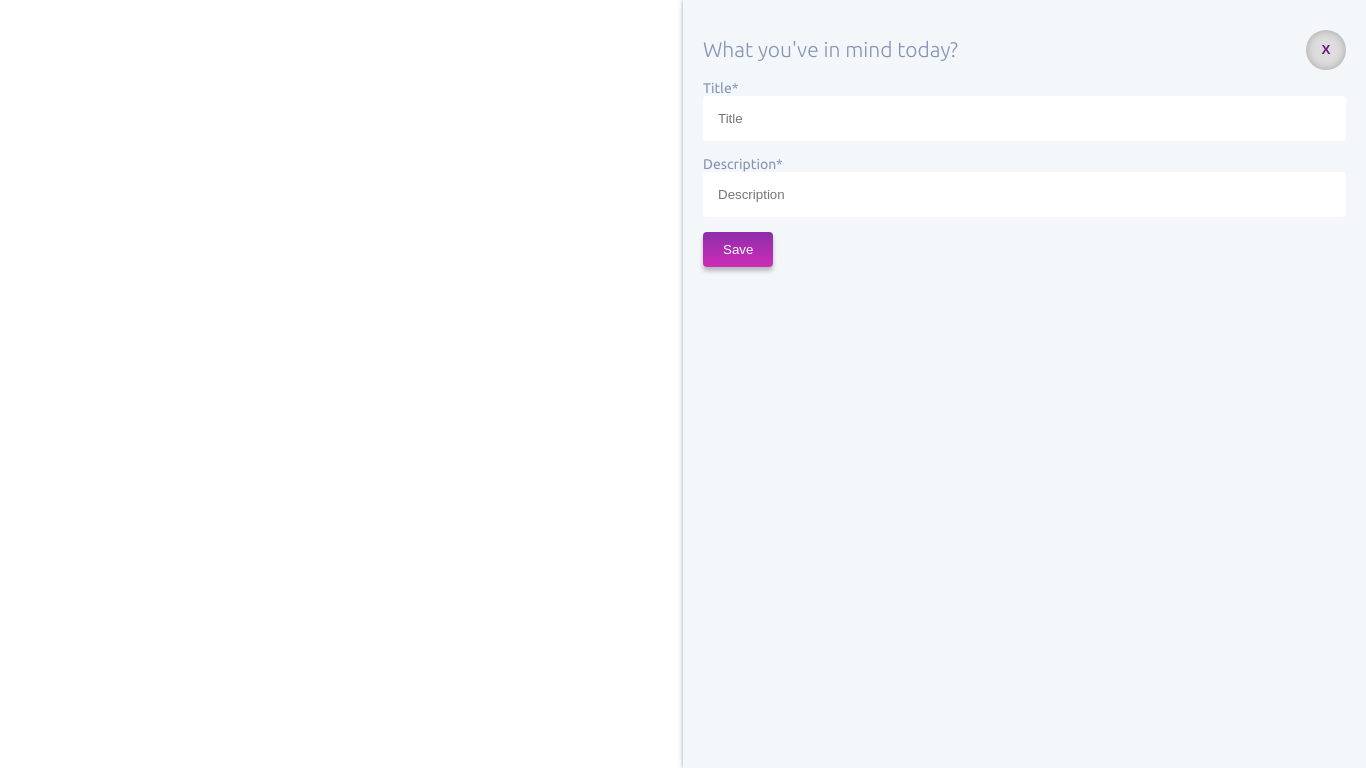
Test case: Test add compoenents › should not be able to submit without all required fields
The width and height of the screenshot is (1366, 768).
Click the button "Save" at (738, 249), box [703, 232, 773, 267]
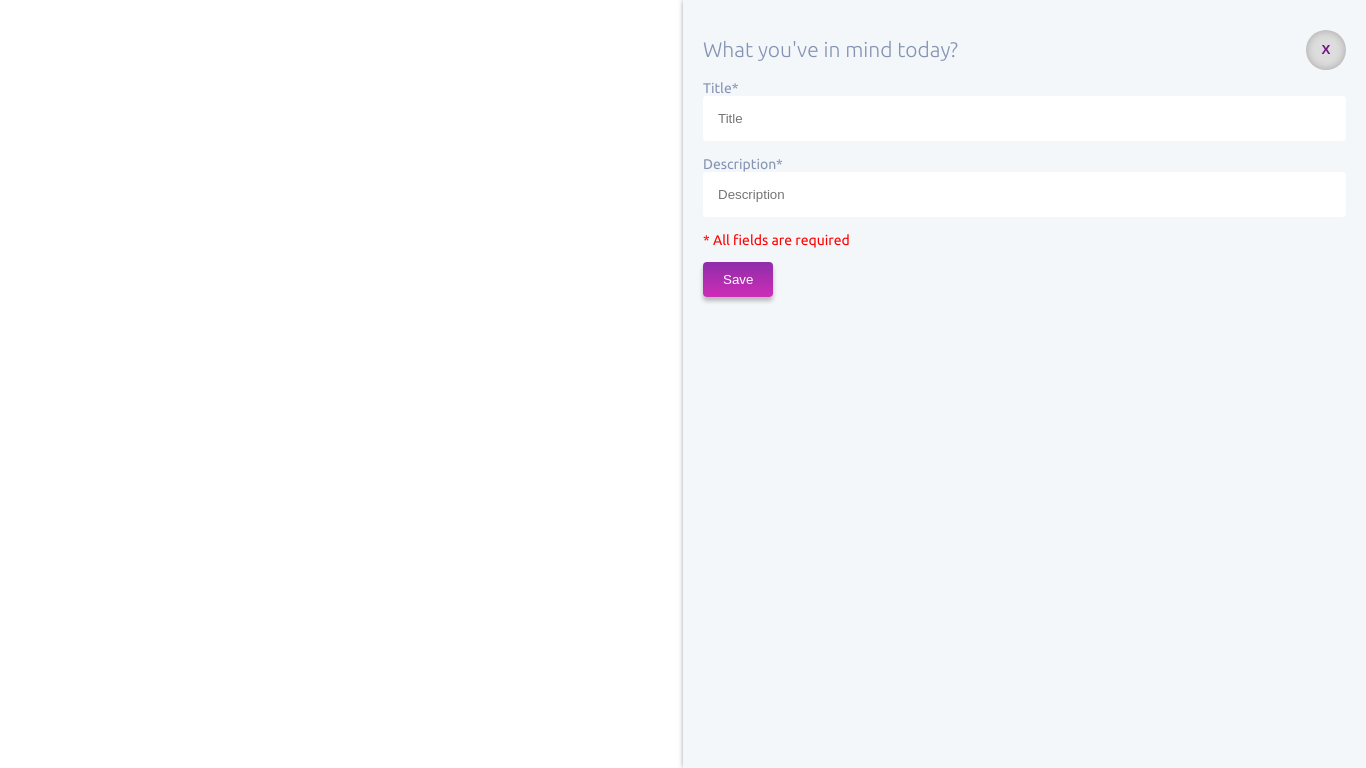
Expected: the text "* All fields are required" is shown, [703, 232, 850, 248]
